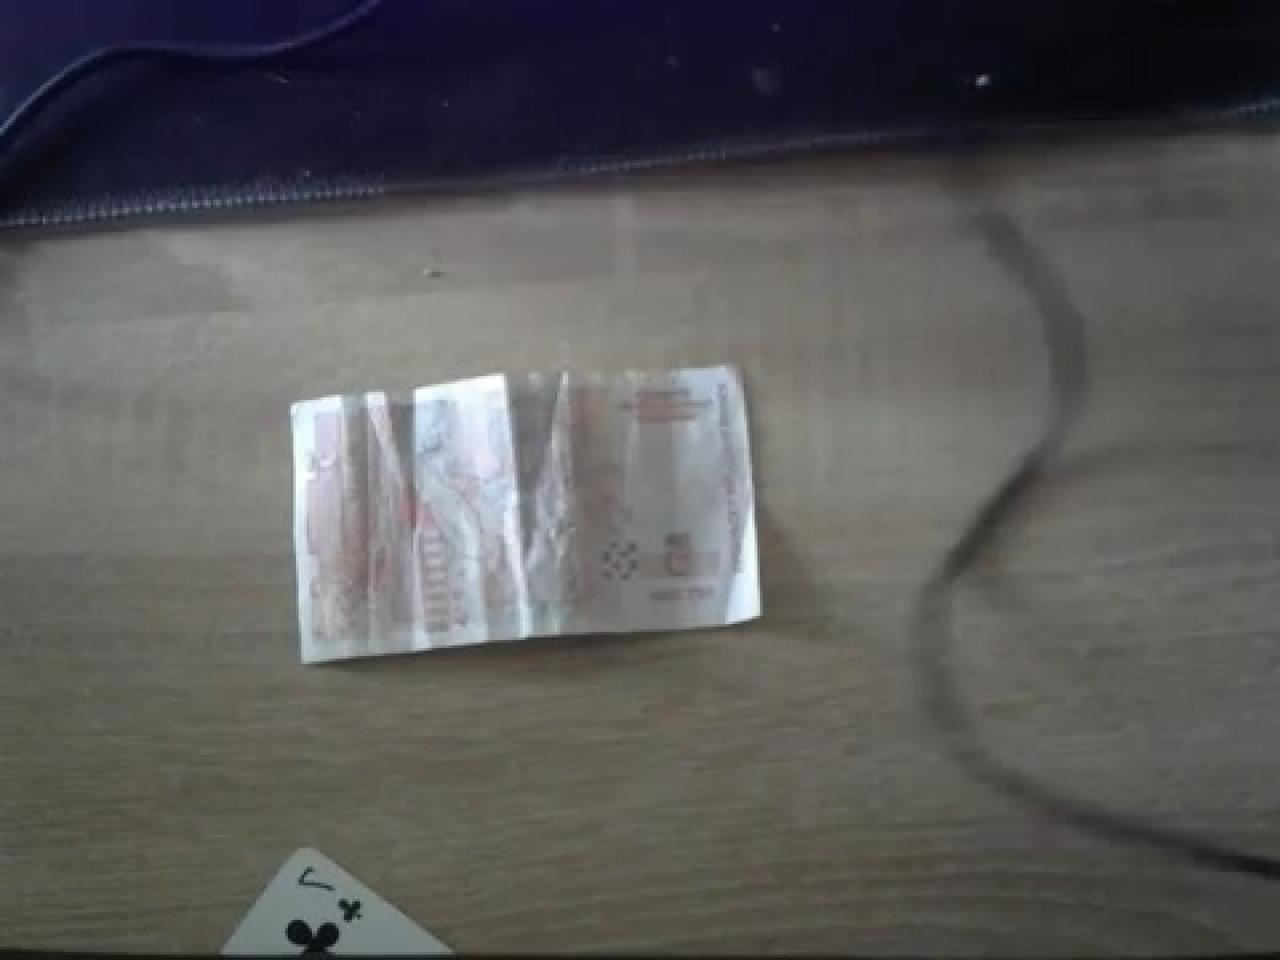5leva: (290, 365, 760, 667)
